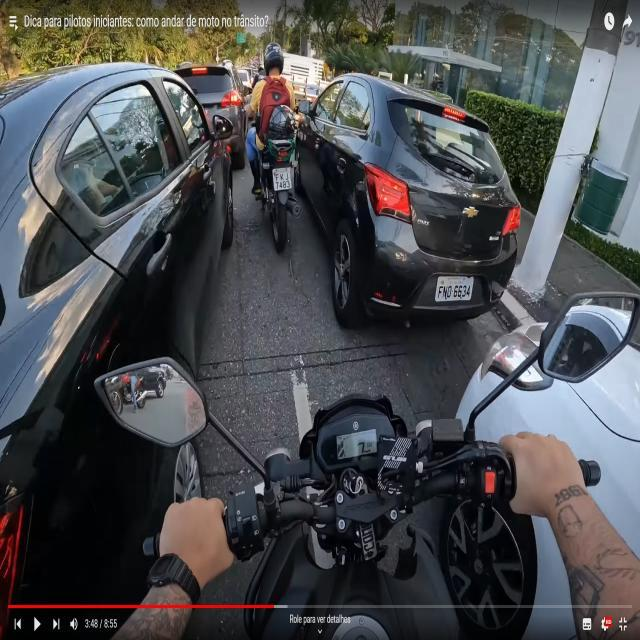placa_moto: (272, 163, 294, 199)
